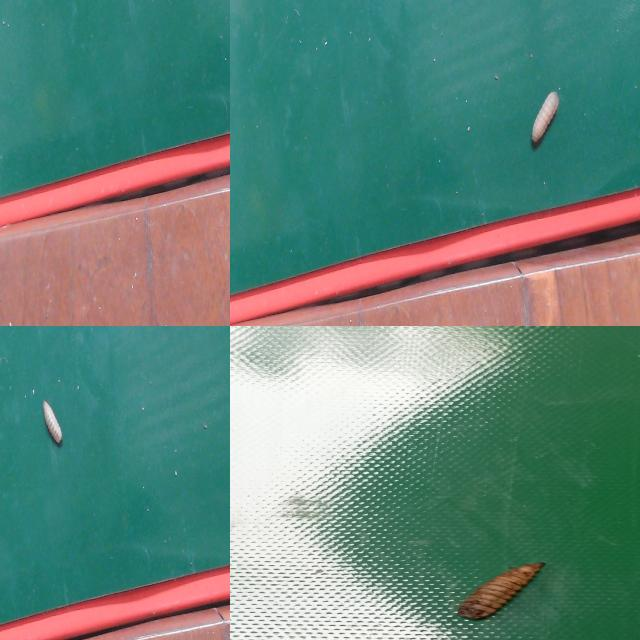Maggot: (457, 562, 544, 622), (530, 90, 563, 150), (39, 401, 65, 448)
